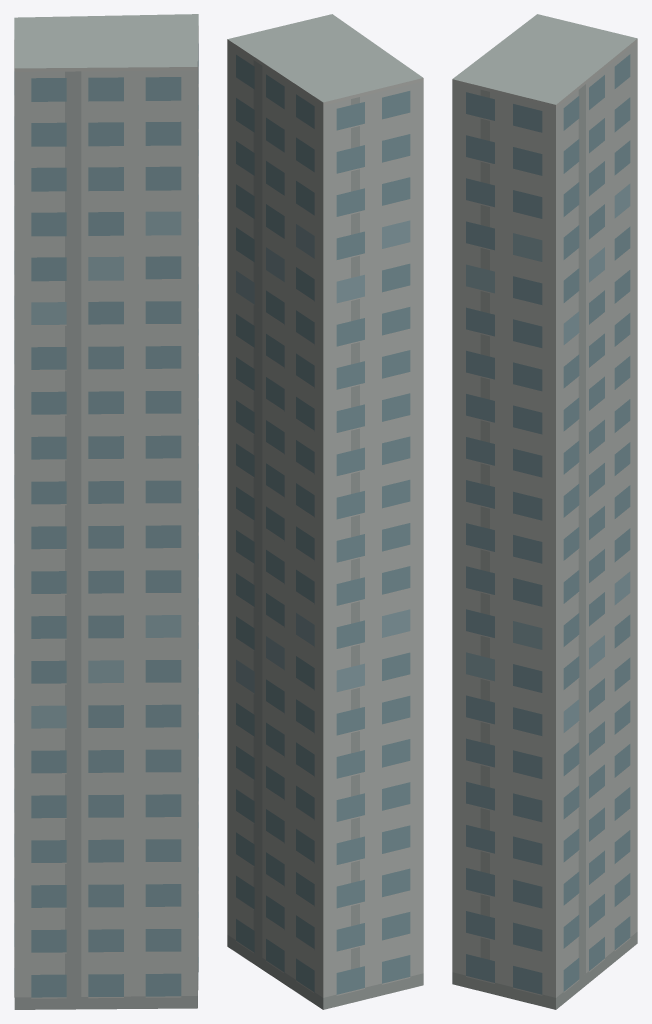
The model's file is survey-upis-32947343.glb.
The picture shows the model from 3 angles, left to right: view 1: azimuth 30°, elevation 25°; view 2: azimuth 150°, elevation 25°; view 3: azimuth 270°, elevation 25°; orthographic projection. The views are drawn at different scales.
Visible parts, largest first — view 1: survey-upis-32947343.tmp; view 2: survey-upis-32947343.tmp; view 3: survey-upis-32947343.tmp.
Part boxes in pixels (x1=…): survey-upis-32947343.tmp: x1=14, y1=14, x2=198, y2=1009; survey-upis-32947343.tmp: x1=227, y1=14, x2=423, y2=1009; survey-upis-32947343.tmp: x1=452, y1=14, x2=637, y2=1009.
Bounding box in the file's own units: 13.8 × 64.05 × 11.9.
